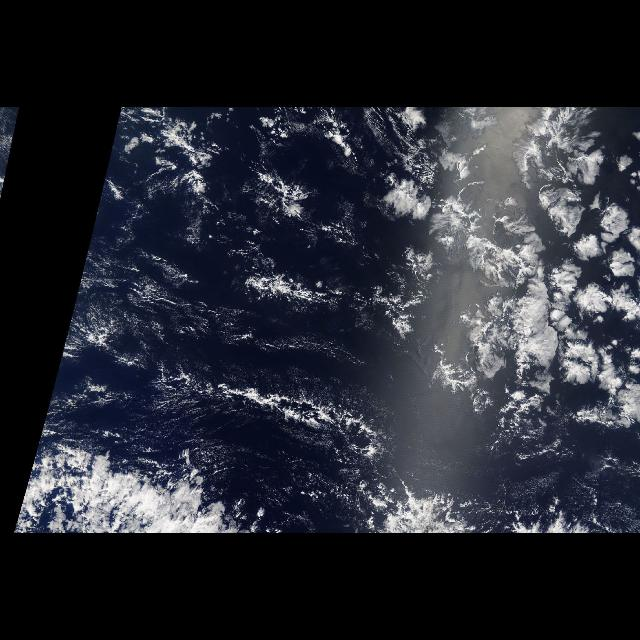Flower: (418, 109, 640, 462)
Sugar: (35, 233, 244, 453)
